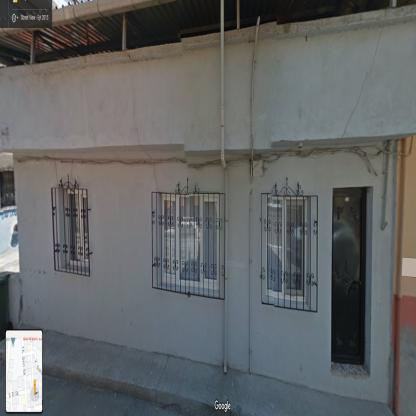door: (332, 188, 366, 368)
window: (162, 195, 218, 292), (266, 197, 307, 302), (62, 189, 88, 268)
